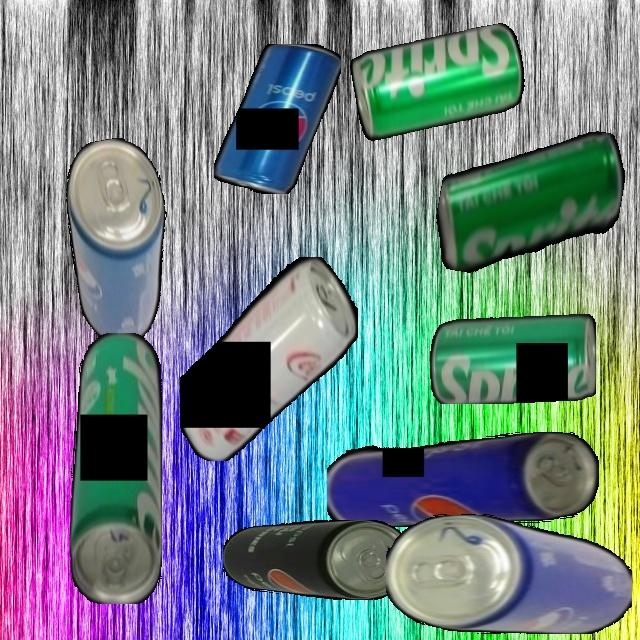debris: (428, 107, 632, 296), (179, 256, 358, 461), (386, 513, 632, 634), (54, 132, 187, 349), (326, 432, 599, 527), (69, 332, 162, 604), (348, 21, 531, 142), (213, 44, 341, 194), (429, 313, 596, 404), (222, 520, 410, 600)
